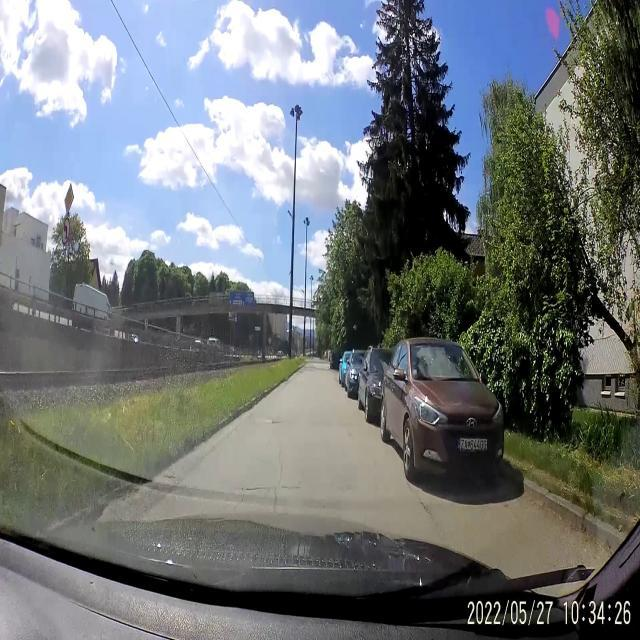Pothole: (261, 414, 281, 428), (240, 482, 260, 494)
